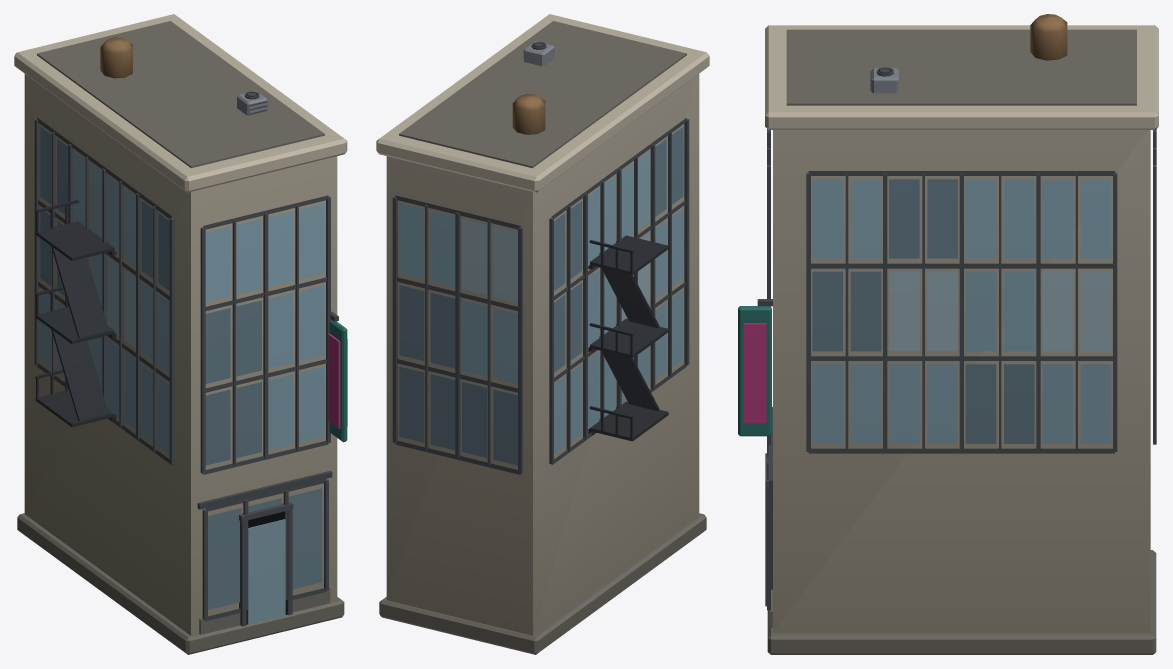
File: retail_infill_01.glb
3 renders of one model, left to right at view 1: azimuth 30°, elevation 25°; view 2: azimuth 150°, elevation 25°; view 3: azimuth 270°, elevation 25°, orthographic. The views are drawn at different scales.
Visible parts, largest first — view 1: retail_infill_01; view 2: retail_infill_01; view 3: retail_infill_01.
Part boxes in pixels (<box>): retail_infill_01: <box>14,14,347,654</box>; retail_infill_01: <box>376,14,709,654</box>; retail_infill_01: <box>738,14,1158,654</box>.
Bounding box in the file's own units: 4.76 × 11.72 × 7.69.
